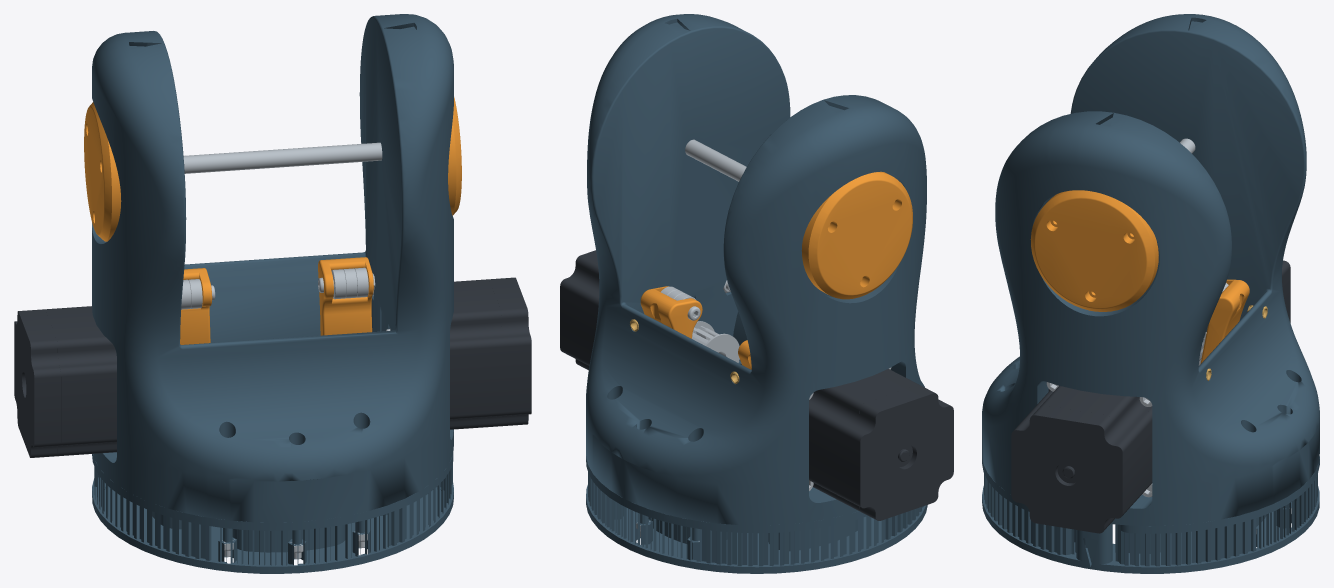
Rendered from shoulder_LOD0.fbx.
The picture shows the model from 3 angles, left to right: view 1: azimuth 30°, elevation 25°; view 2: azimuth 150°, elevation 25°; view 3: azimuth 270°, elevation 25°; orthographic projection. The views are drawn at different scales.
Parts seen in each view (by area): view 1: MM_moveo_2m1d_9ab6d4de88, MM_moveo_1m1b_24149e46ff, MM_moveo_nema_23_26ba15beb1, MM_moveo_nema_23_2b8e776b70, MM_moveo_smooth_bar_8mm_x_140mm_6e6b0a6c04, MM_moveo_tapa_2m1c_cecb37eae0, MM_moveo_t2m1bd_9f7a6940e4, MM_moveo_t2m1bi_b0bbcdda6c, MM_moveo_tapa_2m1c_6dbd8f4ca9; view 2: MM_moveo_2m1d_9ab6d4de88, MM_moveo_nema_23_26ba15beb1, MM_moveo_1m1b_24149e46ff, MM_moveo_tapa_2m1c_cecb37eae0, MM_moveo_nema_23_2b8e776b70, MM_moveo_t2m1bd_9f7a6940e4, MM_moveo_smooth_bar_8mm_x_140mm_6e6b0a6c04, MM_moveo_pulley_8mm_ignis_8bb9f1a4be; view 3: MM_moveo_2m1d_9ab6d4de88, MM_moveo_nema_23_2b8e776b70, MM_moveo_1m1b_24149e46ff, MM_moveo_tapa_2m1c_6dbd8f4ca9, MM_moveo_t2m1bi_b0bbcdda6c.
Part boxes in pixels (x1,y1,x2,y2): MM_moveo_2m1d_9ab6d4de88: (92, 14, 453, 522); MM_moveo_1m1b_24149e46ff: (92, 454, 453, 573); MM_moveo_nema_23_26ba15beb1: (14, 306, 116, 457); MM_moveo_nema_23_2b8e776b70: (450, 277, 531, 429); MM_moveo_smooth_bar_8mm_x_140mm_6e6b0a6c04: (183, 142, 382, 173); MM_moveo_tapa_2m1c_cecb37eae0: (84, 102, 121, 241); MM_moveo_t2m1bd_9f7a6940e4: (318, 257, 373, 335); MM_moveo_t2m1bi_b0bbcdda6c: (180, 268, 212, 344); MM_moveo_tapa_2m1c_6dbd8f4ca9: (448, 97, 461, 215); MM_moveo_2m1d_9ab6d4de88: (586, 14, 926, 525); MM_moveo_nema_23_26ba15beb1: (809, 369, 953, 520); MM_moveo_1m1b_24149e46ff: (586, 456, 927, 573); MM_moveo_tapa_2m1c_cecb37eae0: (801, 171, 912, 299); MM_moveo_nema_23_2b8e776b70: (560, 250, 599, 369); MM_moveo_t2m1bd_9f7a6940e4: (640, 286, 702, 338); MM_moveo_smooth_bar_8mm_x_140mm_6e6b0a6c04: (685, 139, 746, 181); MM_moveo_pulley_8mm_ignis_8bb9f1a4be: (692, 321, 739, 362); MM_moveo_2m1d_9ab6d4de88: (982, 14, 1319, 525); MM_moveo_nema_23_2b8e776b70: (1011, 385, 1152, 533); MM_moveo_1m1b_24149e46ff: (982, 456, 1319, 573); MM_moveo_tapa_2m1c_6dbd8f4ca9: (1030, 190, 1158, 311); MM_moveo_t2m1bi_b0bbcdda6c: (1200, 279, 1249, 363).
Size of the model in its own units: 0.228 by 0.2255 by 0.16.
